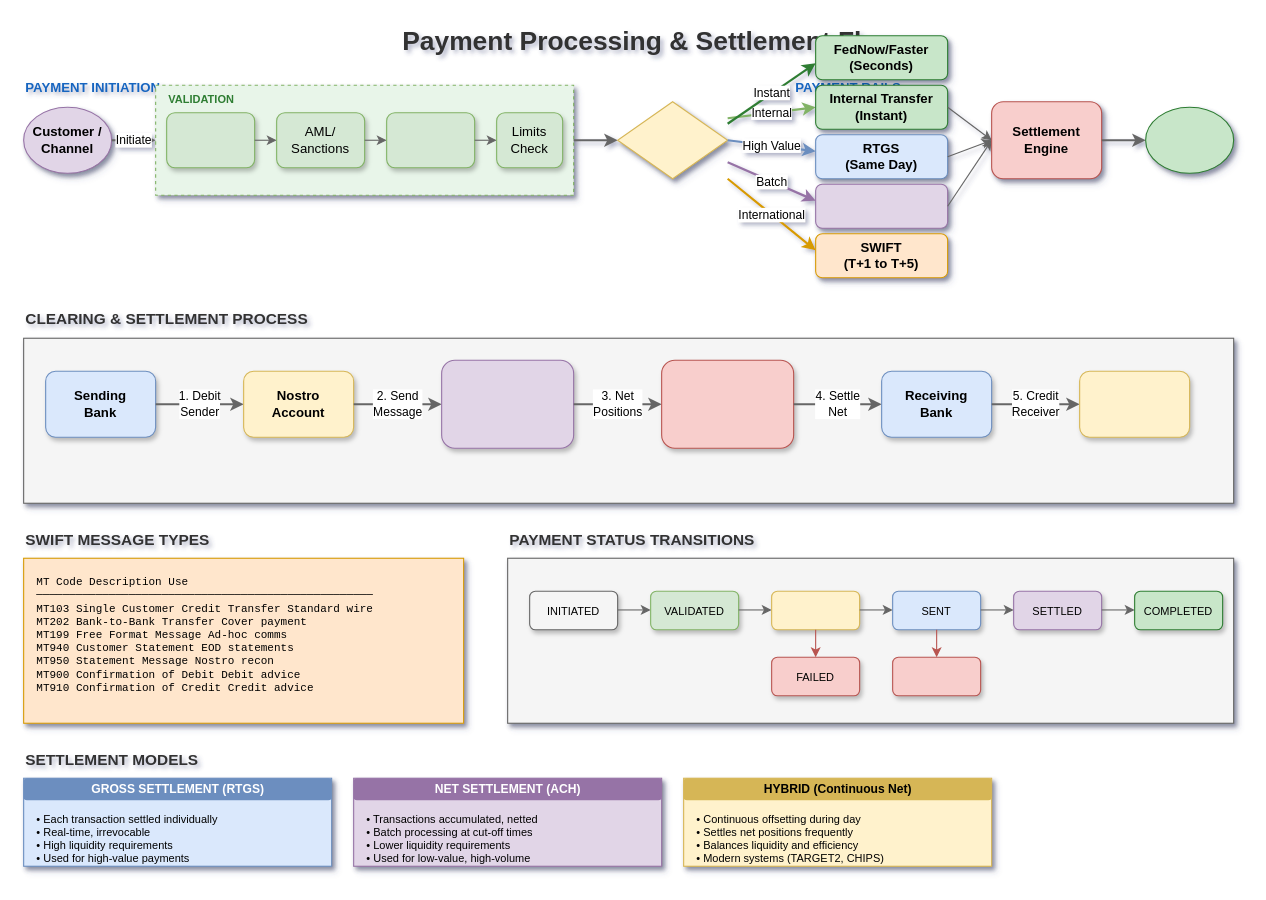
Image size: 1266x900. Some labels were removed from this diagram. Each missing label, with the centre of its shape:
"ACH (T+1/T+2)" goes at (x=882, y=207).
"Balance Check" goes at (x=431, y=141).
"Central Bank" goes at (x=728, y=405).
"Clearing House" goes at (x=508, y=405).
"Complete" goes at (x=1190, y=141).
"Payment Router" goes at (x=673, y=141).
"PROCESSING" goes at (x=816, y=611).
"RETURNED" goes at (x=937, y=677).
"Validate Request" goes at (x=211, y=141).
"Vostro Account" goes at (x=1135, y=405).
